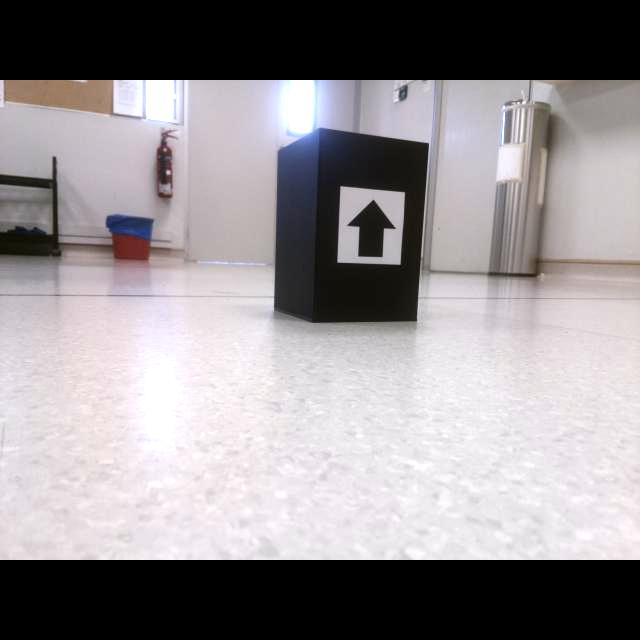UP: (346, 198, 397, 258)
